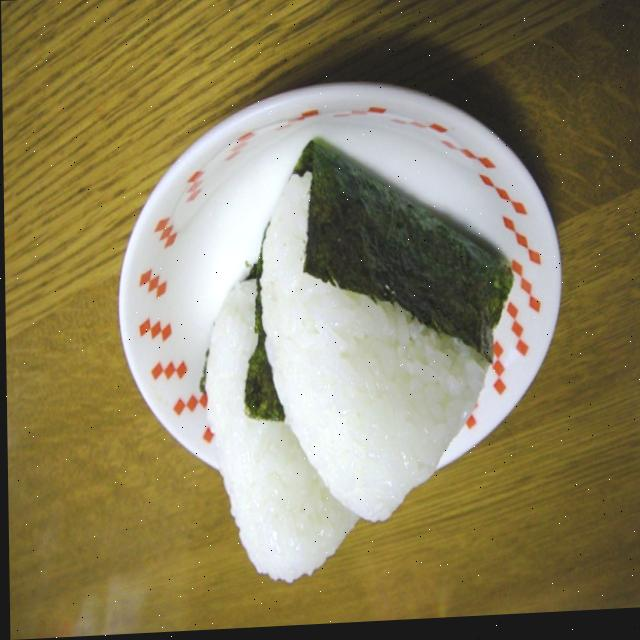米饭主食: (253, 139, 518, 550), (194, 260, 374, 594)
